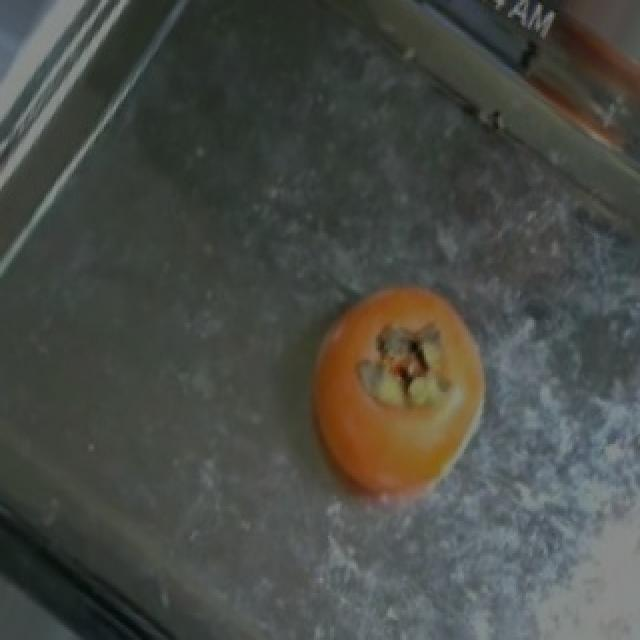Fruit: (286, 268, 506, 541)
